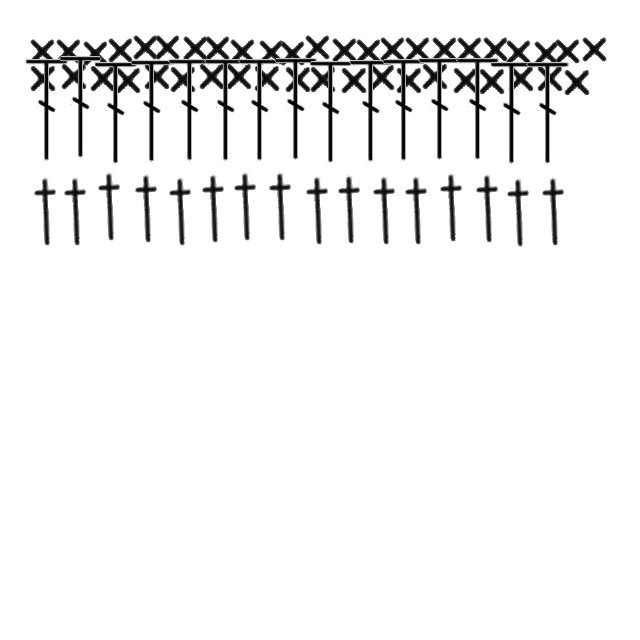double: (168, 62, 198, 96), (283, 62, 313, 96), (308, 62, 338, 96), (367, 60, 397, 94), (477, 64, 507, 98), (106, 34, 136, 66), (330, 34, 360, 66), (504, 36, 534, 68), (28, 62, 58, 94), (59, 60, 89, 92), (88, 62, 118, 94), (113, 64, 143, 96), (142, 60, 172, 92), (197, 60, 227, 92), (224, 60, 254, 92), (252, 62, 282, 94), (339, 64, 369, 96), (394, 64, 424, 96), (420, 60, 450, 92), (451, 64, 481, 96), (506, 62, 536, 94), (535, 62, 565, 94), (562, 66, 592, 98), (28, 36, 58, 66), (54, 36, 84, 66), (228, 36, 258, 66), (278, 38, 308, 68), (354, 36, 384, 66), (378, 34, 408, 64), (430, 34, 460, 64), (532, 38, 562, 68), (580, 34, 610, 64), (182, 32, 210, 64), (204, 32, 232, 64), (258, 36, 286, 68), (82, 38, 110, 68), (132, 32, 160, 62), (154, 32, 182, 62), (304, 32, 332, 62), (404, 34, 432, 64), (456, 34, 484, 64), (482, 34, 510, 64), (554, 36, 582, 66)
double treble: (58, 52, 104, 162), (93, 58, 139, 168), (129, 56, 175, 166), (273, 54, 319, 164), (348, 56, 394, 166), (417, 54, 463, 164), (455, 54, 501, 164), (489, 58, 535, 168), (525, 58, 571, 168), (24, 56, 70, 164), (167, 56, 213, 164), (203, 56, 249, 164), (237, 56, 283, 164), (308, 58, 354, 166), (381, 56, 427, 164)
enseble_chain: (26, 177, 68, 247), (56, 177, 98, 247), (90, 172, 132, 242), (194, 174, 236, 244), (226, 172, 268, 242), (298, 176, 340, 246), (330, 175, 372, 245), (432, 173, 474, 243), (468, 174, 510, 244), (534, 177, 576, 247), (128, 174, 168, 244), (162, 177, 202, 247), (262, 172, 302, 242), (366, 176, 406, 246), (398, 176, 438, 246), (500, 178, 540, 248)
